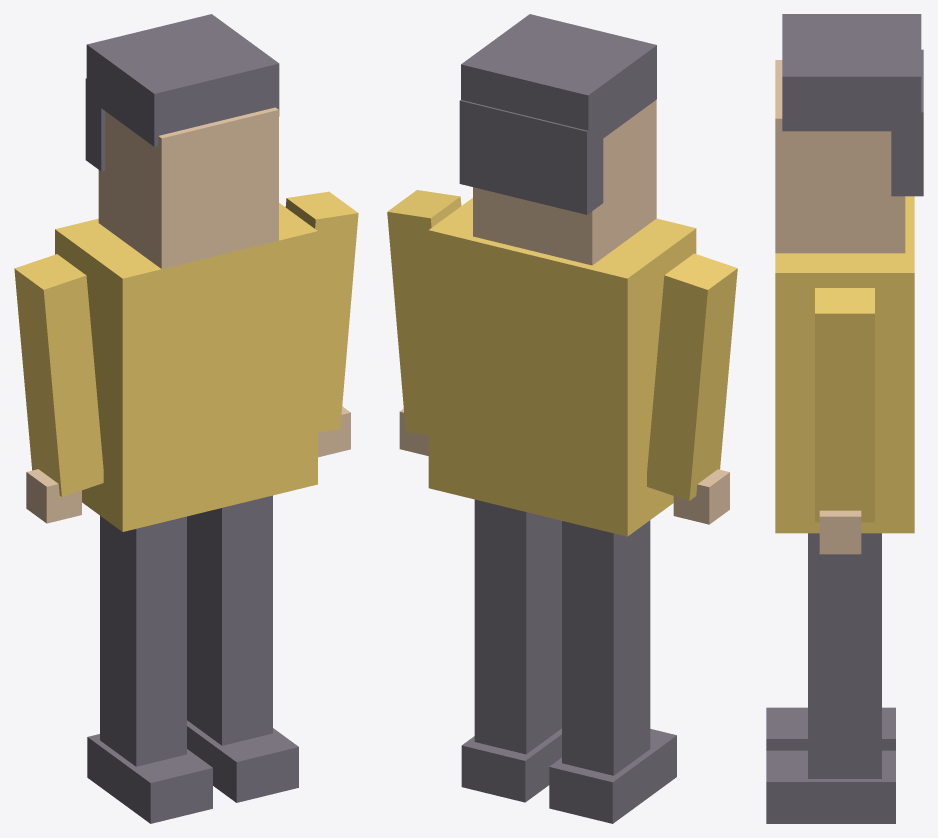
The model's file is player.glb.
The picture shows the model from 3 angles, left to right: view 1: azimuth 30°, elevation 25°; view 2: azimuth 150°, elevation 25°; view 3: azimuth 270°, elevation 25°; orthographic projection. The views are drawn at different scales.
Parts seen in each view (by area): view 1: p4, p9, p1, p3, p10, p5, p7, p0, p2, p6, p11, p8; view 2: p4, p1, p3, p10, p5, p9, p11, p7, p0, p2, p6, p8; view 3: p4, p3, p10, p9, p7, p2, p11, p0, p8.
Part boxes in pixels (box(x1,y1,x2,y2)): p4: box(55, 203, 317, 531); p9: box(98, 107, 278, 268); p1: box(100, 516, 186, 766); p3: box(187, 495, 272, 745); p10: box(86, 14, 279, 146); p5: box(14, 254, 103, 496); p7: box(285, 191, 358, 432); p0: box(87, 734, 212, 823); p2: box(187, 720, 298, 802); p6: box(26, 469, 81, 523); p11: box(85, 78, 105, 171); p8: box(318, 406, 350, 457); p4: box(428, 198, 696, 536); p1: box(562, 520, 650, 775); p3: box(474, 499, 561, 754); p10: box(461, 14, 656, 148); p5: box(647, 253, 737, 500); p9: box(473, 100, 656, 265); p11: box(459, 100, 603, 214); p7: box(387, 190, 461, 435); p0: box(549, 729, 676, 823); p2: box(461, 728, 561, 802); p6: box(673, 469, 729, 524); p8: box(399, 409, 428, 455); p4: box(775, 196, 914, 533); p3: box(808, 533, 881, 778); p10: box(782, 14, 921, 131); p9: box(775, 60, 905, 253); p7: box(815, 288, 874, 522); p2: box(766, 750, 895, 823); p11: box(891, 49, 923, 196); p0: box(766, 707, 895, 750); p8: box(819, 510, 861, 554).
Bounding box in the file's own units: 0.8063 × 1.76 × 0.34.
